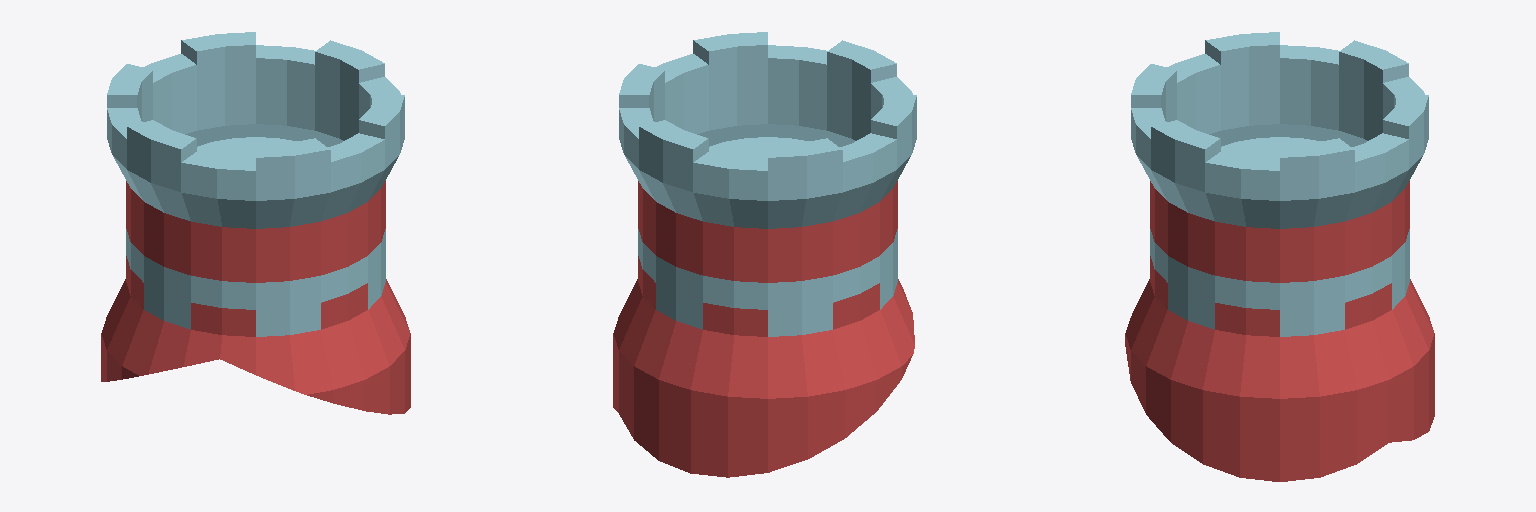
File: CornerUpwardsBase.obj
3 renders of one model, left to right at view 1: azimuth 30°, elevation 25°; view 2: azimuth 150°, elevation 25°; view 3: azimuth 270°, elevation 25°, orthographic.
Parts seen in each view (by area): view 1: towerRound_sampleC.001; view 2: towerRound_sampleC.001; view 3: towerRound_sampleC.001.
Part boxes in pixels (x1,y1,x2,y2): towerRound_sampleC.001: (101, 32, 410, 414); towerRound_sampleC.001: (613, 32, 916, 477); towerRound_sampleC.001: (1125, 32, 1434, 481).
Size of the model in its own units: 0.6594 by 0.7582 by 0.6594.